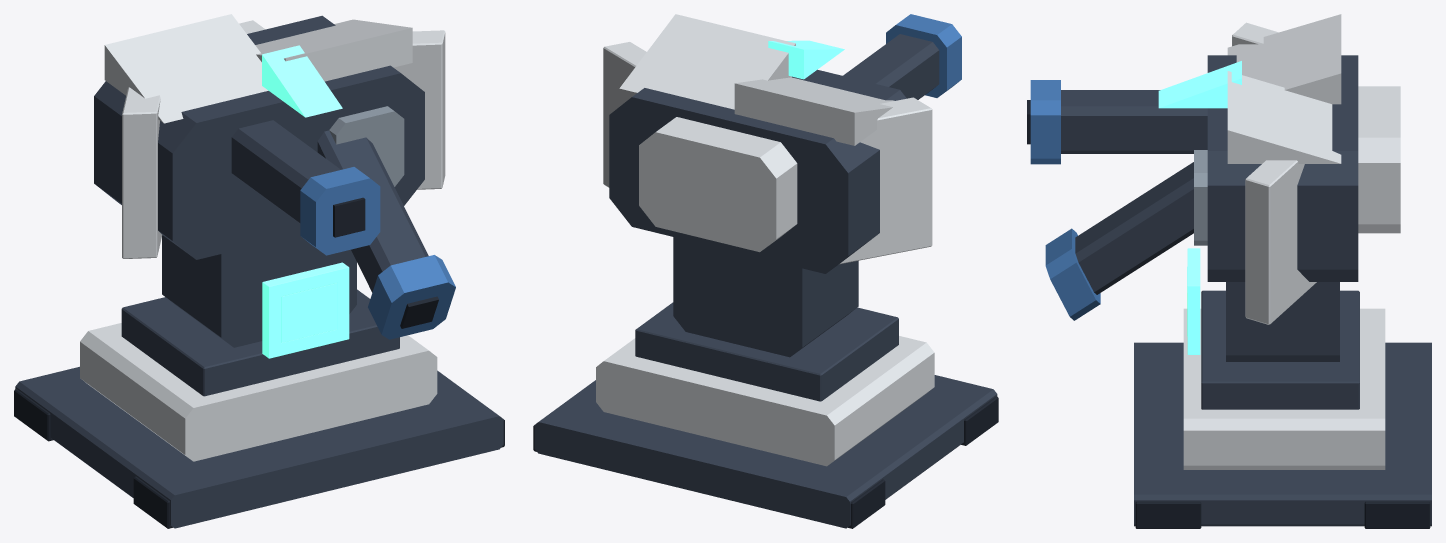
The model's file is damaged.glb.
3 views of the same model, side by side, from view 1: azimuth 30°, elevation 25°; view 2: azimuth 150°, elevation 25°; view 3: azimuth 270°, elevation 25° (orthographic). The views are drawn at different scales.
Visible parts, largest first — view 1: ROLE_primary, ROLE_secondary, ROLE_interaction, ROLE_accent, ROLE_rubber, ROLE_bareMetal; view 2: ROLE_primary, ROLE_secondary, ROLE_accent, ROLE_rubber, ROLE_interaction; view 3: ROLE_primary, ROLE_secondary, ROLE_accent, ROLE_rubber, ROLE_interaction, ROLE_bareMetal.
Part boxes in pixels (x1,y1,x2,y2): ROLE_primary: [15, 15, 503, 528]; ROLE_secondary: [80, 14, 445, 461]; ROLE_interaction: [262, 45, 349, 358]; ROLE_accent: [300, 167, 455, 339]; ROLE_rubber: [14, 197, 504, 528]; ROLE_bareMetal: [329, 106, 404, 186]; ROLE_primary: [534, 34, 997, 528]; ROLE_secondary: [596, 14, 934, 466]; ROLE_accent: [886, 14, 961, 97]; ROLE_rubber: [533, 396, 998, 528]; ROLE_interaction: [768, 40, 844, 79]; ROLE_primary: [1061, 55, 1431, 526]; ROLE_secondary: [1183, 14, 1400, 469]; ROLE_accent: [1030, 80, 1100, 320]; ROLE_rubber: [1027, 100, 1430, 528]; ROLE_interaction: [1158, 61, 1241, 354]; ROLE_bareMetal: [1194, 150, 1207, 245].
Size of the model in its own units: 4.8 by 5.25 by 5.06.
